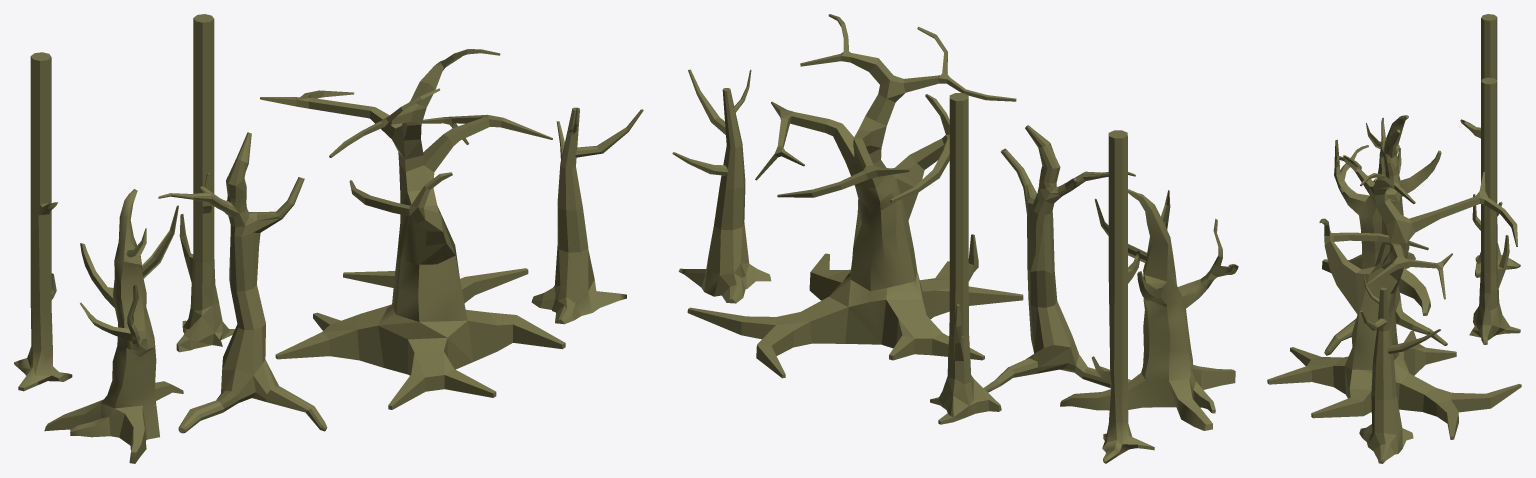
Rendered from Trees0905.fbx.
The picture shows the model from 3 angles, left to right: view 1: azimuth 30°, elevation 25°; view 2: azimuth 150°, elevation 25°; view 3: azimuth 270°, elevation 25°; orthographic projection. The views are drawn at different scales.
Visible parts, largest first — view 1: TreeTrunk3, TreeTrunk1, TreeTrunk2, TreeTrunk6, TreeTrunk5, TreeTrunk4; view 2: TreeTrunk3, TreeTrunk1, TreeTrunk2, TreeTrunk6, TreeTrunk4, TreeTrunk5; view 3: TreeTrunk3, TreeTrunk6, TreeTrunk4, TreeTrunk1, TreeTrunk2, TreeTrunk5.
Part boxes in pixels (left/top/right/bottom): TreeTrunk3: left=260, top=49, right=565, bottom=409; TreeTrunk1: left=44, top=189, right=183, bottom=463; TreeTrunk2: left=158, top=132, right=327, bottom=433; TreeTrunk6: left=176, top=14, right=234, bottom=352; TreeTrunk5: left=14, top=52, right=72, bottom=391; TreeTrunk4: left=531, top=107, right=643, bottom=324; TreeTrunk3: left=687, top=14, right=1023, bottom=378; TreeTrunk1: left=1060, top=189, right=1238, bottom=430; TreeTrunk2: left=984, top=125, right=1135, bottom=392; TreeTrunk6: left=930, top=93, right=1001, bottom=424; TreeTrunk4: left=672, top=69, right=771, bottom=303; TreeTrunk5: left=1091, top=130, right=1154, bottom=463; TreeTrunk3: left=1267, top=155, right=1521, bottom=439; TreeTrunk6: left=1469, top=77, right=1520, bottom=344; TreeTrunk4: left=1359, top=273, right=1440, bottom=463; TreeTrunk1: left=1322, top=115, right=1441, bottom=315; TreeTrunk2: left=1324, top=117, right=1447, bottom=355; TreeTrunk5: left=1460, top=14, right=1520, bottom=277.
Size of the model in its own units: 2757 by 1590 by 1361.
